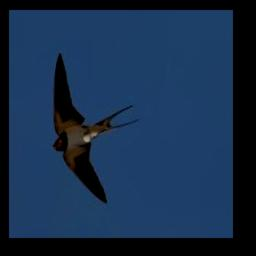Swallow: (52, 53, 139, 202)
